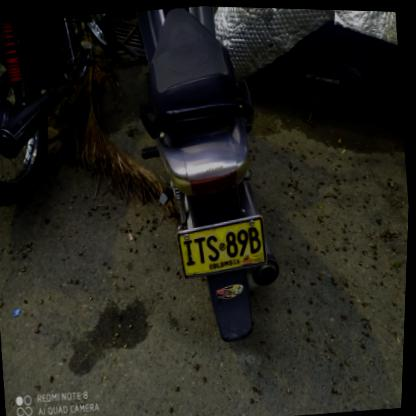placa: (168, 207, 276, 284)
